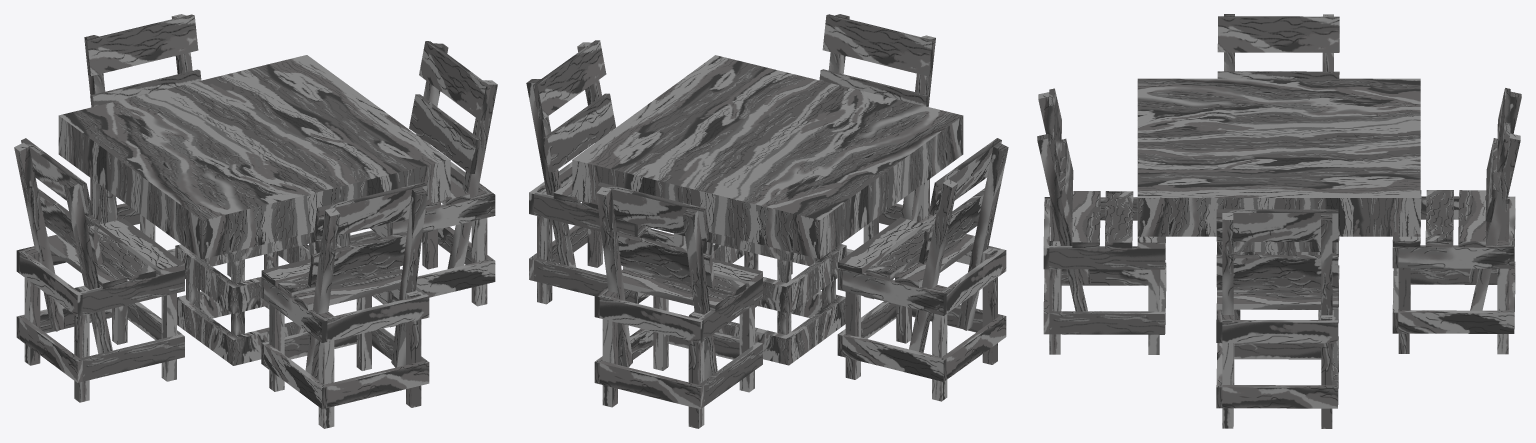
Rendered from mesa.glb.
3 views of the same model, side by side, from view 1: azimuth 30°, elevation 25°; view 2: azimuth 150°, elevation 25°; view 3: azimuth 270°, elevation 25° (orthographic).
Visible parts, largest first — view 1: Cube.008, Cube; view 2: Cube.008, Cube; view 3: Cube.008, Cube.
Boxes of the visible parts, x1=… form: Cube.008: x1=14, y1=14, x2=497, y2=428; Cube: x1=58, y1=55, x2=450, y2=365; Cube.008: x1=526, y1=14, x2=1008, y2=428; Cube: x1=572, y1=55, x2=963, y2=365; Cube.008: x1=1037, y1=14, x2=1521, y2=428; Cube: x1=1137, y1=78, x2=1420, y2=320.
Size of the model in its own units: 3.45 by 1.7 by 3.42.
Materials: 1 (1 with a texture image).
